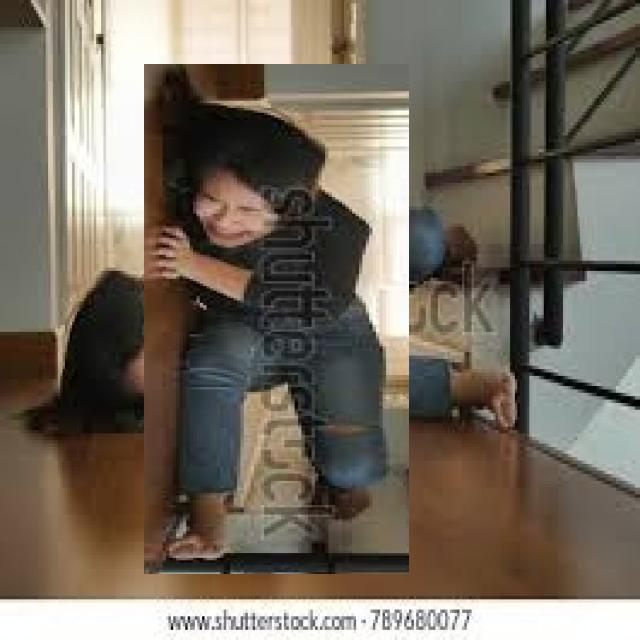Fall: (148, 64, 400, 592)
